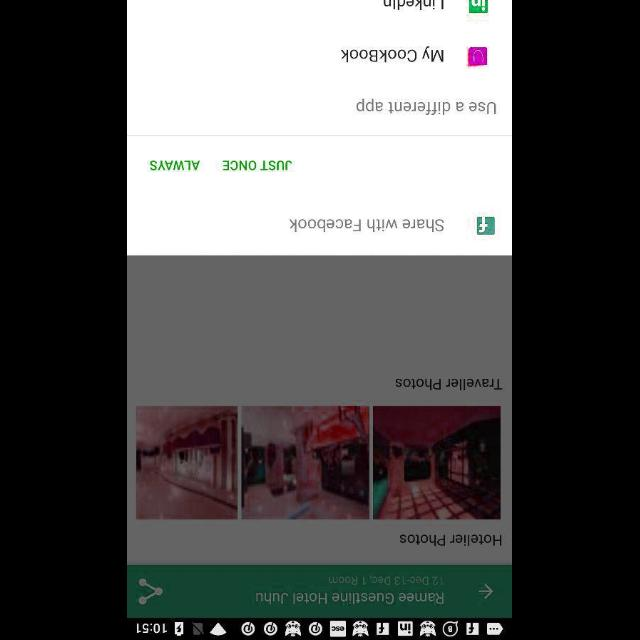icon: (138, 578, 164, 604), (476, 216, 496, 234), (479, 584, 493, 598)
image: (374, 406, 501, 520), (242, 406, 370, 518), (138, 405, 238, 519), (468, 46, 488, 66), (469, 0, 488, 14)
panel: (128, 1, 512, 256)
text: (357, 98, 498, 115), (256, 592, 444, 604), (289, 218, 445, 232), (342, 46, 444, 64), (396, 378, 502, 390), (400, 534, 502, 546), (330, 576, 444, 584), (223, 159, 293, 171), (150, 160, 202, 172), (384, 0, 444, 10)
uppertaskbar: (128, 617, 512, 639)
